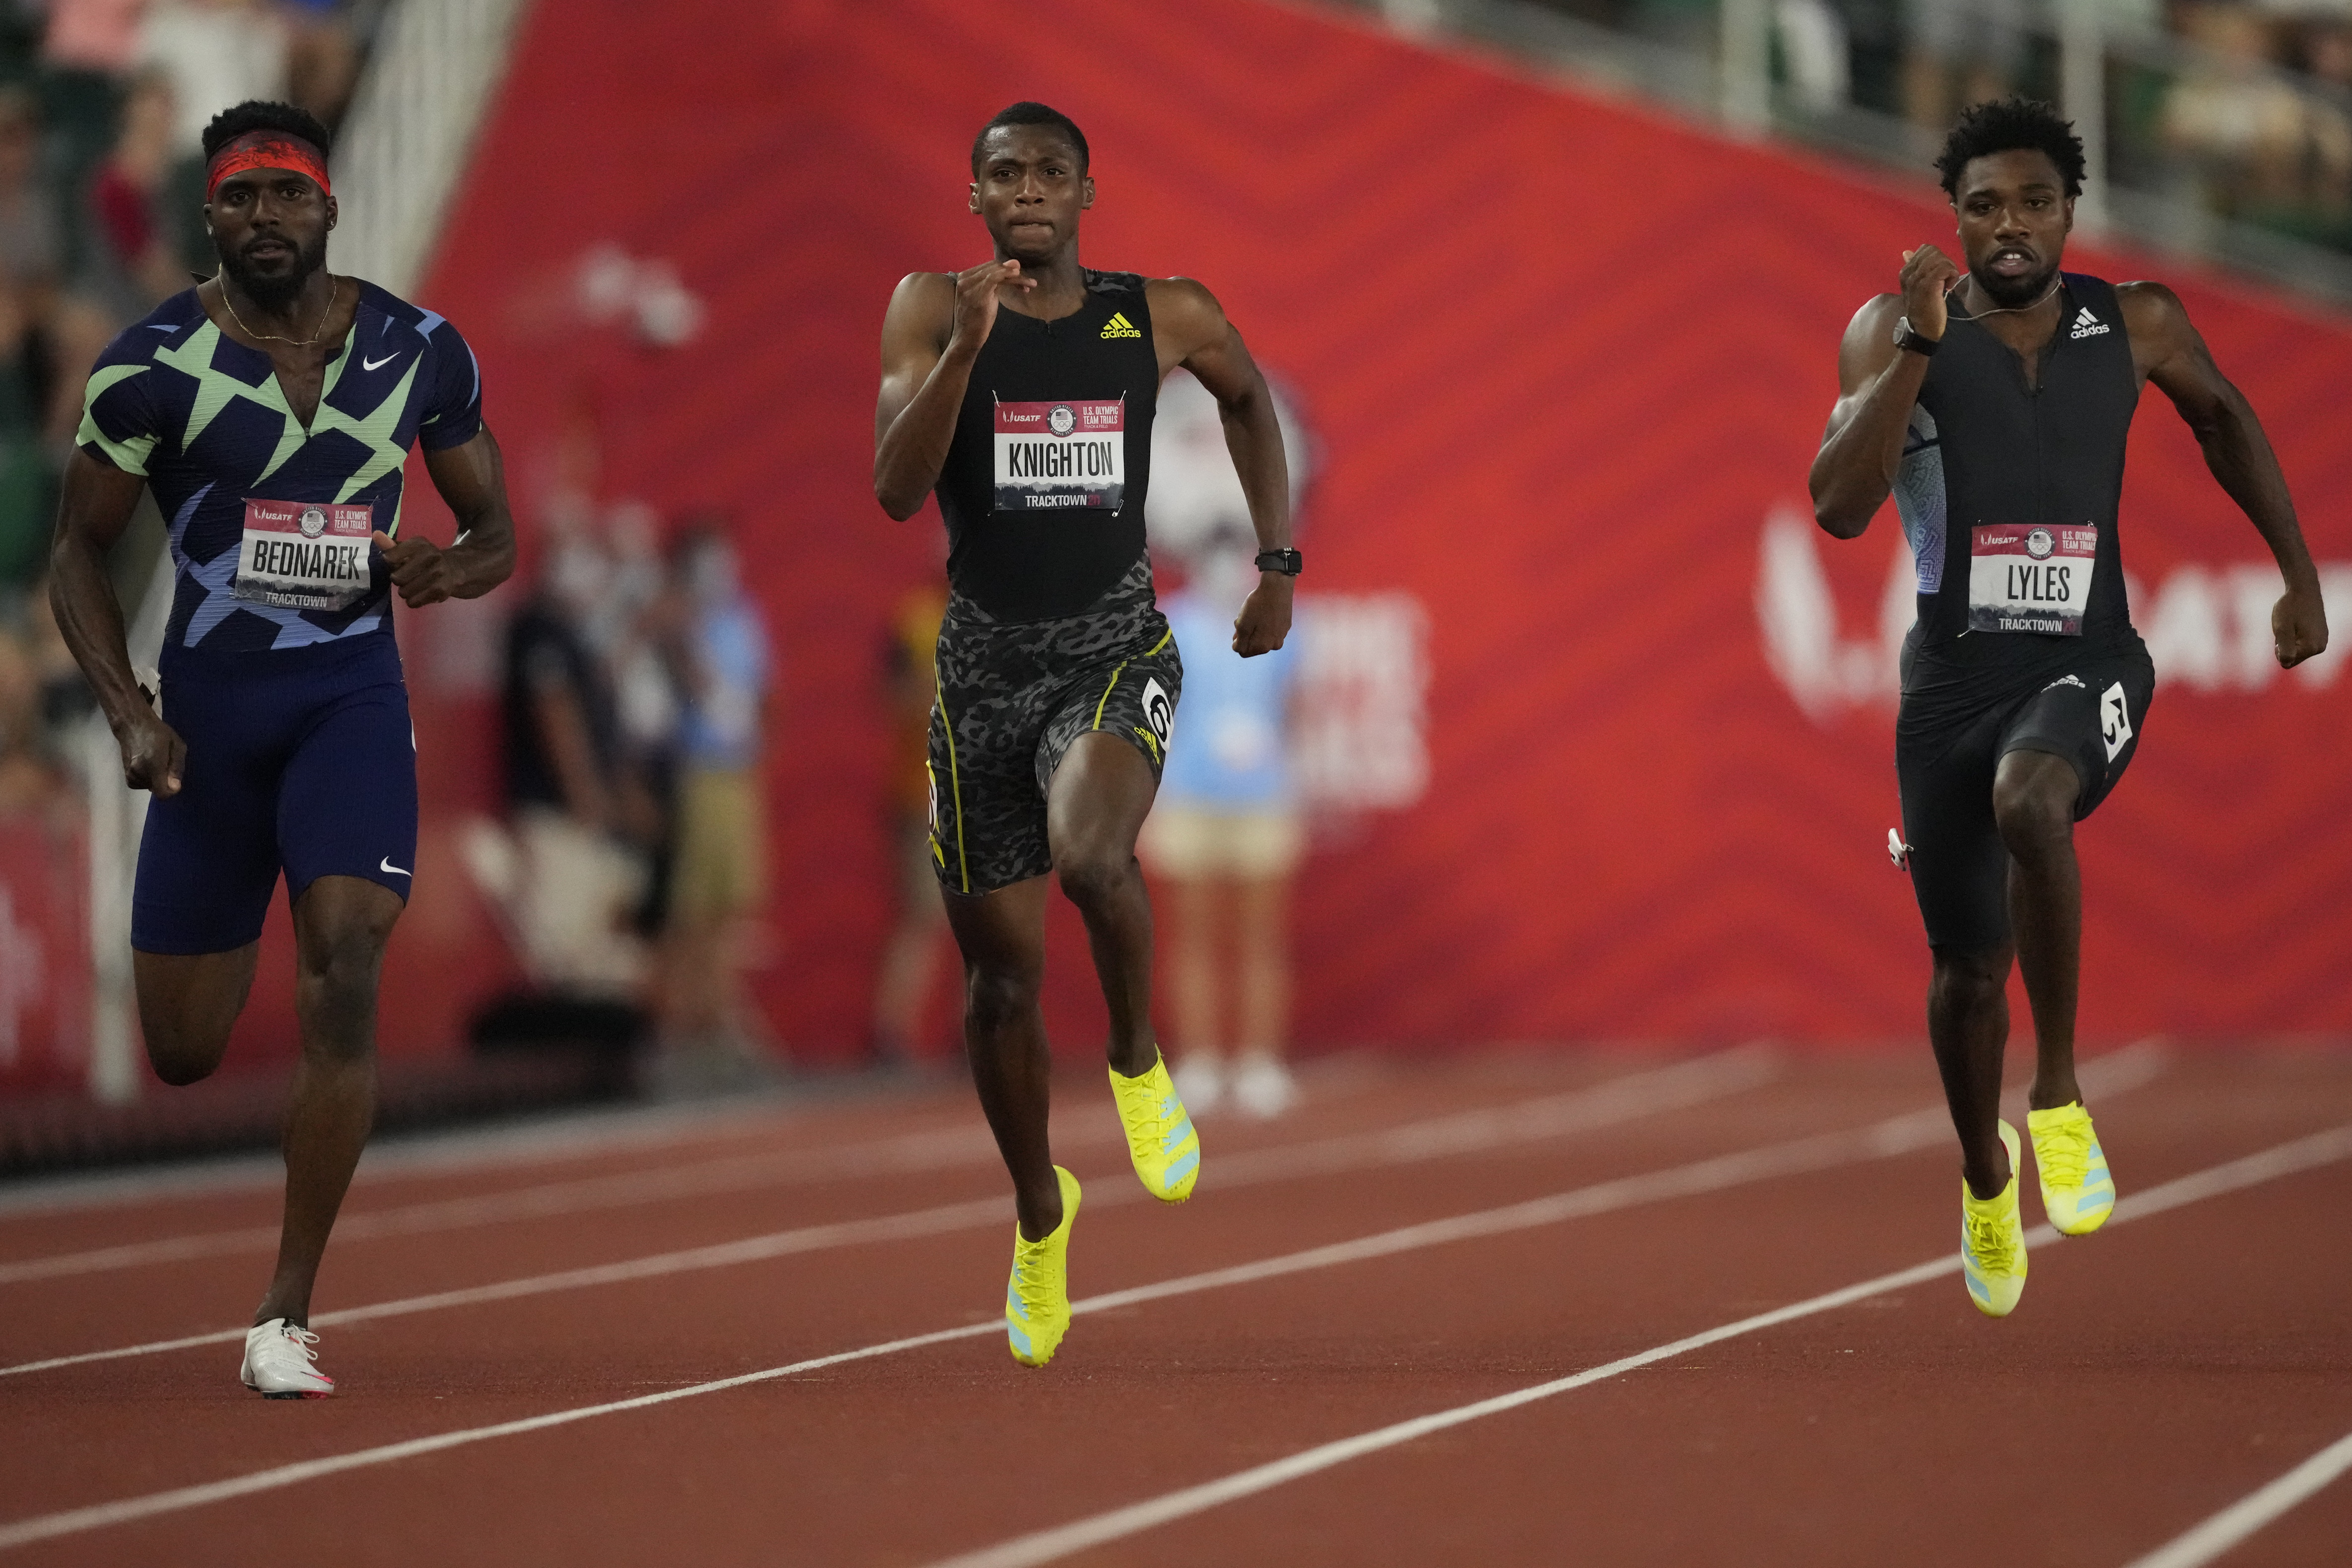runner: (1795, 87, 2341, 1346), (37, 93, 532, 1407), (864, 94, 1326, 1389)
